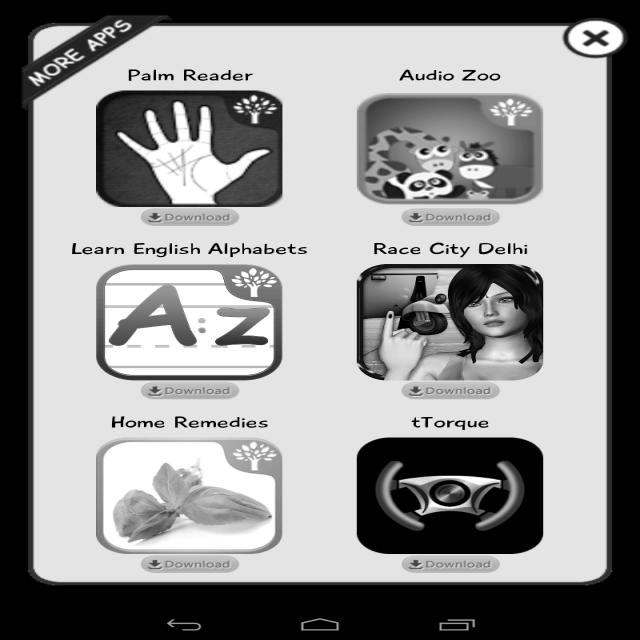Button: (136, 550, 242, 574), (397, 205, 502, 229), (137, 379, 238, 403), (398, 379, 508, 401), (398, 553, 504, 575), (138, 208, 244, 228)
ImageButton: (558, 17, 630, 59)
ImageView: (346, 262, 560, 378), (89, 434, 303, 550), (351, 438, 556, 550), (356, 90, 546, 204), (100, 90, 286, 202), (98, 268, 287, 377)
TextView: (70, 237, 315, 256), (107, 412, 275, 430), (370, 240, 538, 256), (120, 65, 258, 84), (395, 64, 506, 82), (406, 410, 497, 430)
